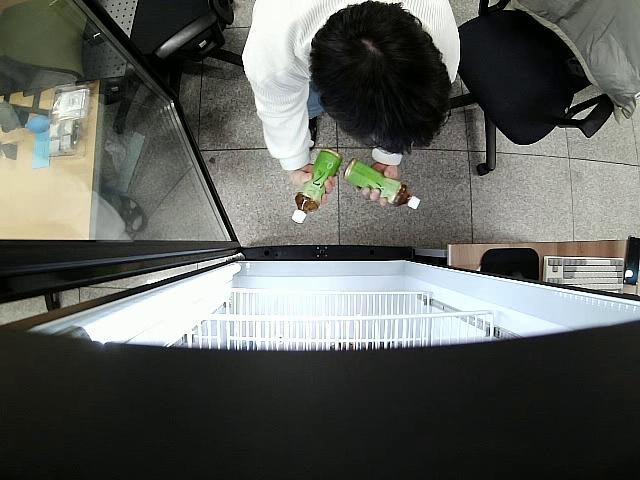19_17cha: (344, 158, 422, 212), (290, 146, 342, 224)
